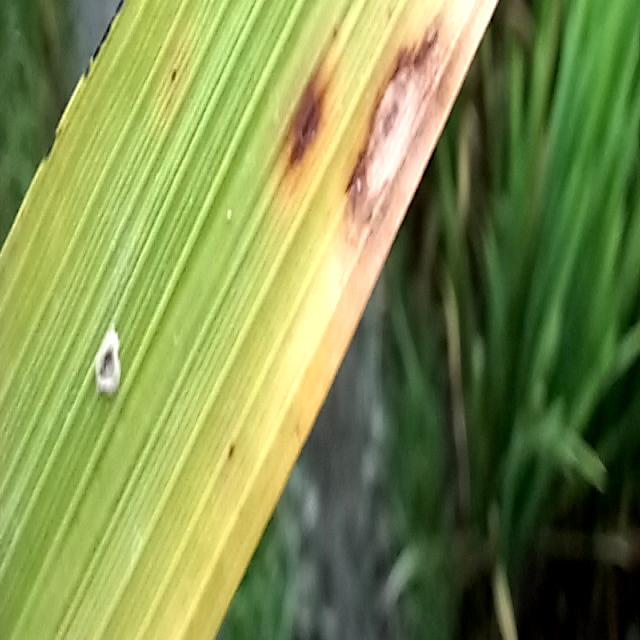LEAF BLAST: (343, 17, 462, 254)
